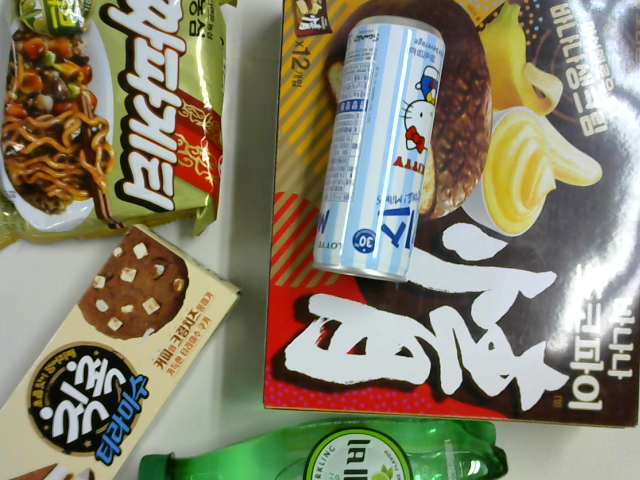Chicchok_Tiramisu: (1, 224, 241, 480)
Choco_Pie_Banana: (263, 1, 639, 430)
Milkies_250ml: (311, 18, 446, 283)
Olive_Chapaghetti: (1, 1, 237, 248)
Treviraim_500ml: (137, 414, 506, 480)
